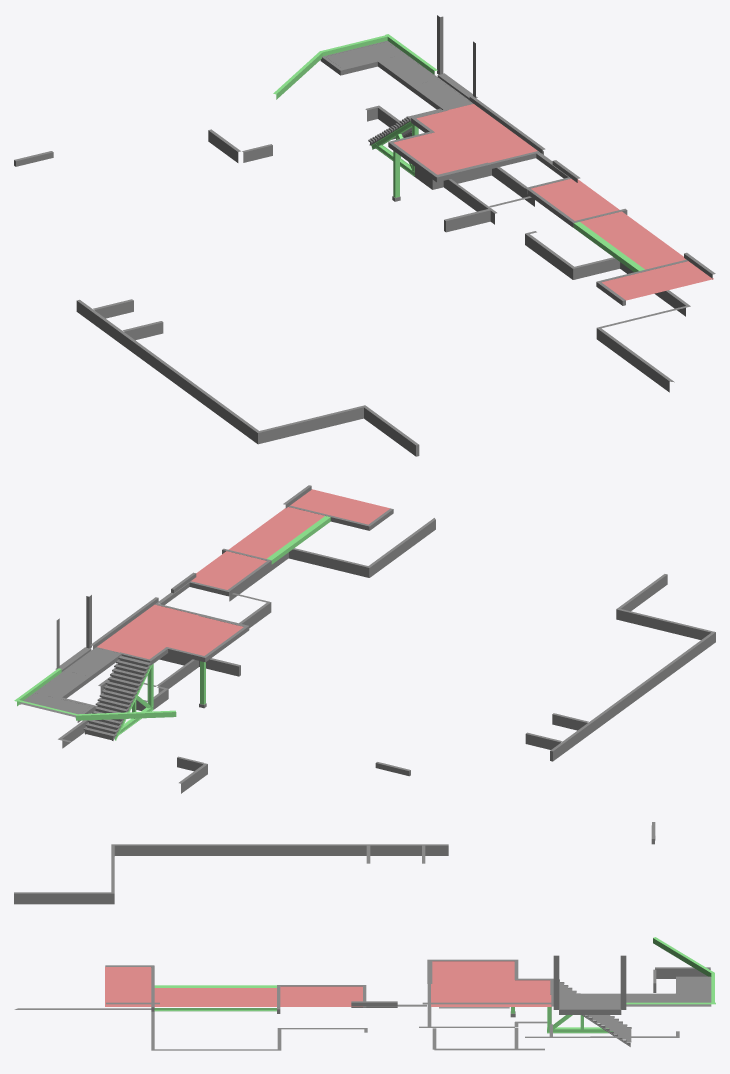
Rendered from S_Envi_Common_Ladder_Merge_03.gltf.
The picture shows the model from 3 angles, top to bottom: view 1: azimuth 30°, elevation 25°; view 2: azimuth 150°, elevation 25°; view 3: azimuth 270°, elevation 25°; orthographic projection. The views are drawn at different scales.
Parts seen in each view (by area): view 1: S_Envi_Common_Ladder_Merge_03; view 2: S_Envi_Common_Ladder_Merge_03; view 3: S_Envi_Common_Ladder_Merge_03.
Boxes of the visible parts, x1=… form: S_Envi_Common_Ladder_Merge_03: x1=14, y1=15, x2=715, y2=456; S_Envi_Common_Ladder_Merge_03: x1=14, y1=485, x2=715, y2=793; S_Envi_Common_Ladder_Merge_03: x1=14, y1=822, x2=715, y2=1050.
Bounding box in the file's own units: 42.85 × 10.54 × 60.76.
